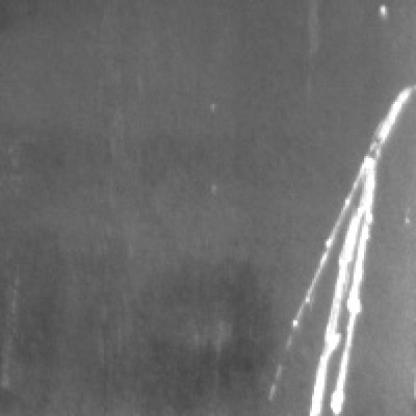scratches: (289, 81, 410, 412)
